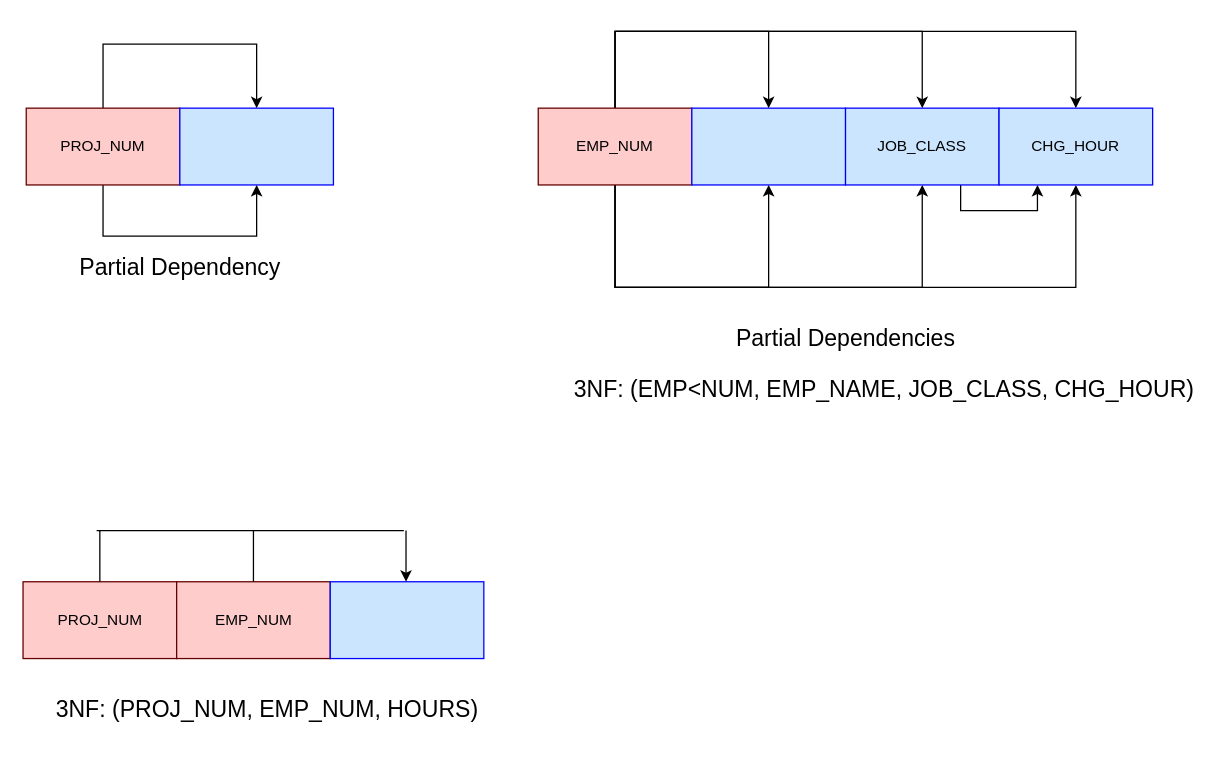
Some shapes in this 1231 by 758 pixel diagram are drawn without their labels. Here are the shapes that lost their labels. From the top down, the box of each, then its label:
(179, 107, 333, 185): PROJ_NAME
(691, 107, 845, 185): EMP_NAME
(329, 580, 484, 659): HOURS
